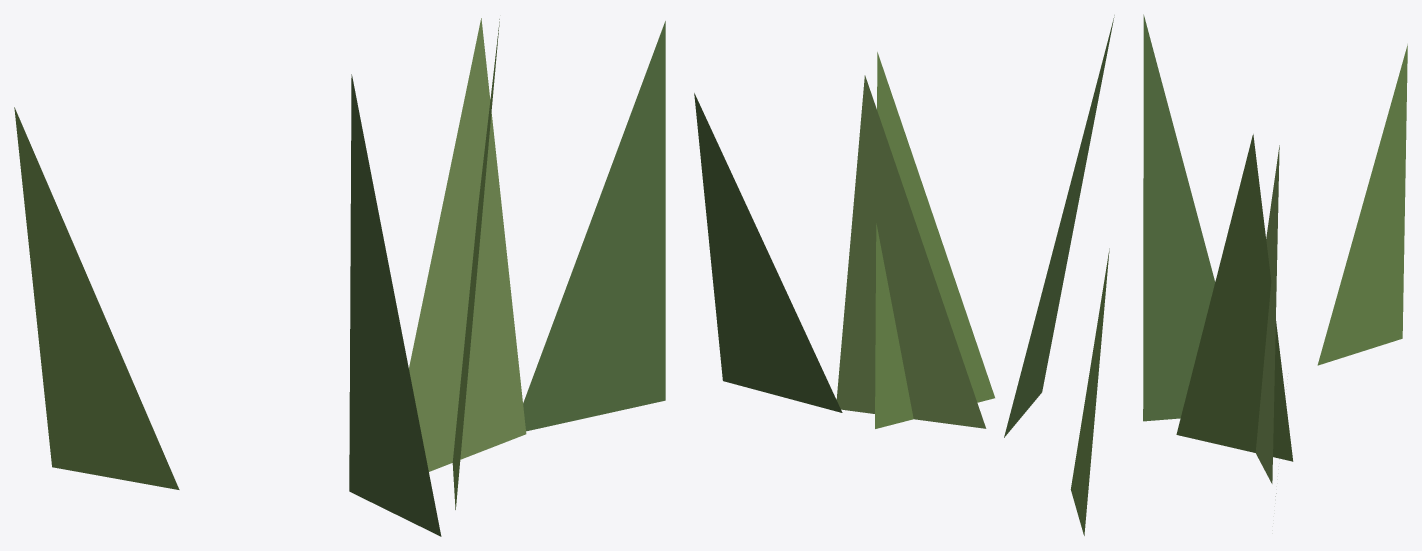
File: tall_grass_2.obj
3 renders of one model, left to right at view 1: azimuth 30°, elevation 25°; view 2: azimuth 150°, elevation 25°; view 3: azimuth 270°, elevation 25°, orthographic. The views are drawn at different scales.
Parts seen in each view (by area): view 1: source_component_001, source_component_002, source_component_000, source_component_004, source_component_003; view 2: source_component_002, source_component_001, source_component_003, source_component_004, source_component_000; view 3: source_component_004, source_component_003, source_component_000, source_component_002.
Part boxes in pixels (x1,y1,x2,y2): source_component_001: (523, 21, 665, 431); source_component_002: (409, 18, 526, 471); source_component_000: (14, 107, 179, 489); source_component_004: (349, 74, 441, 536); source_component_003: (452, 19, 499, 509); source_component_002: (836, 75, 986, 428); source_component_001: (694, 93, 842, 412); source_component_003: (875, 52, 994, 428); source_component_004: (1004, 15, 1114, 437); source_component_000: (1070, 248, 1109, 535); source_component_004: (1143, 14, 1215, 421); source_component_003: (1176, 134, 1293, 461); source_component_000: (1317, 44, 1407, 365); source_component_002: (1255, 145, 1279, 483).
Size of the model in its own units: 0.3501 by 0.2802 by 0.1798.
